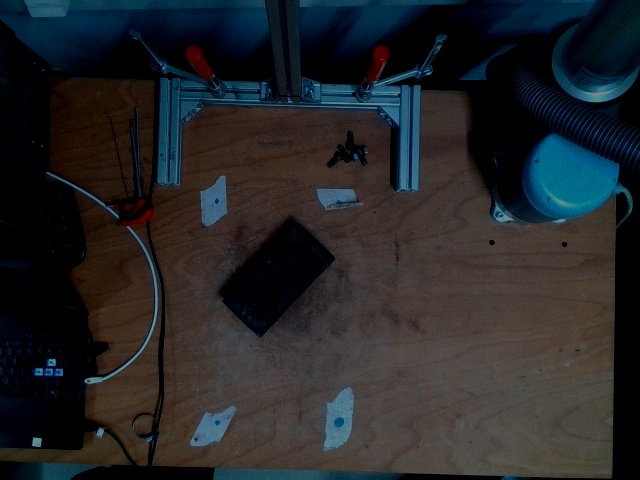brick: (224, 222, 336, 337)
